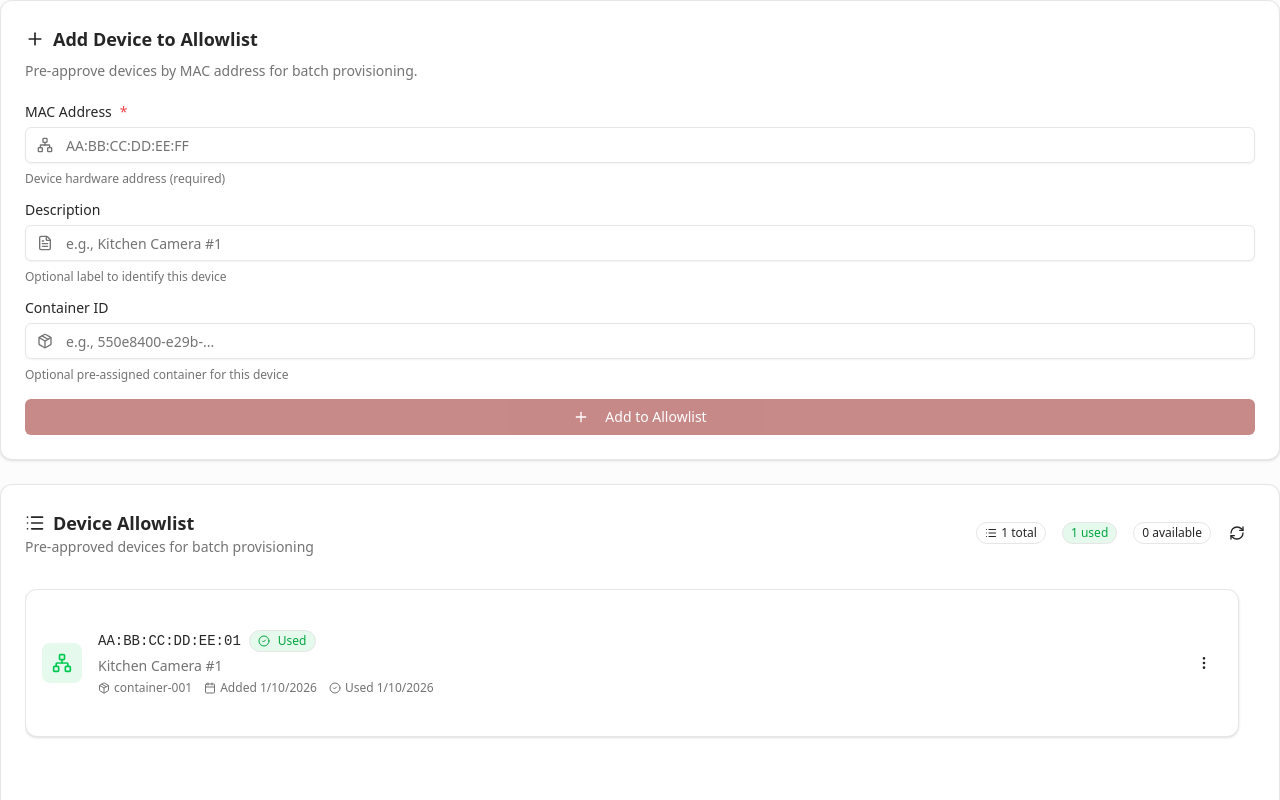
Scenario: AllowlistSection › Delete Entry › opens delete confirmation when delete clicked
The width and height of the screenshot is (1280, 800).
expect the element with test id "allowlist-entries" is shown: met, box 25,589 -> 1239,737
Open dropdown and click delete
Click the button with test id "entry-actions-button".
click(1204, 663)  # box 1186,645 -> 1222,681
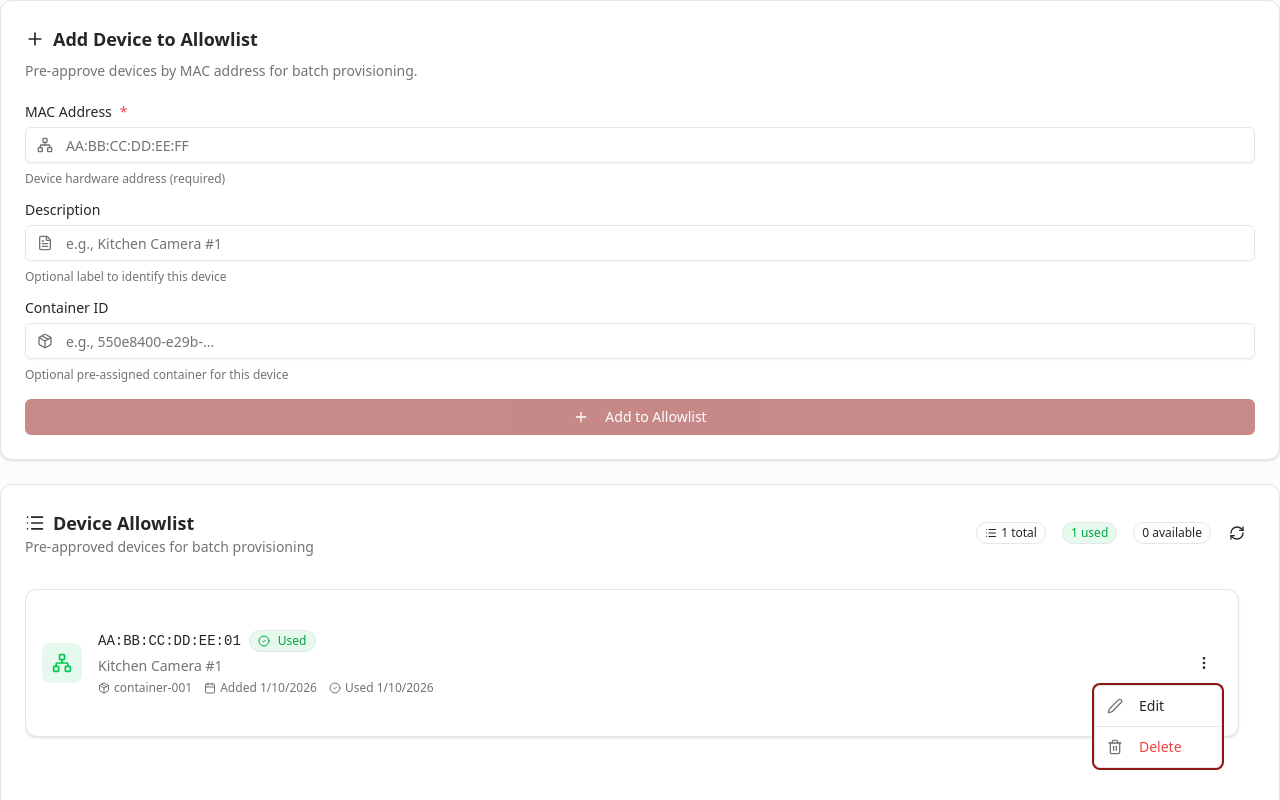
Click the menu item with test id "delete-entry-action".
click(1144, 746)  # box 1107,737 -> 1182,756
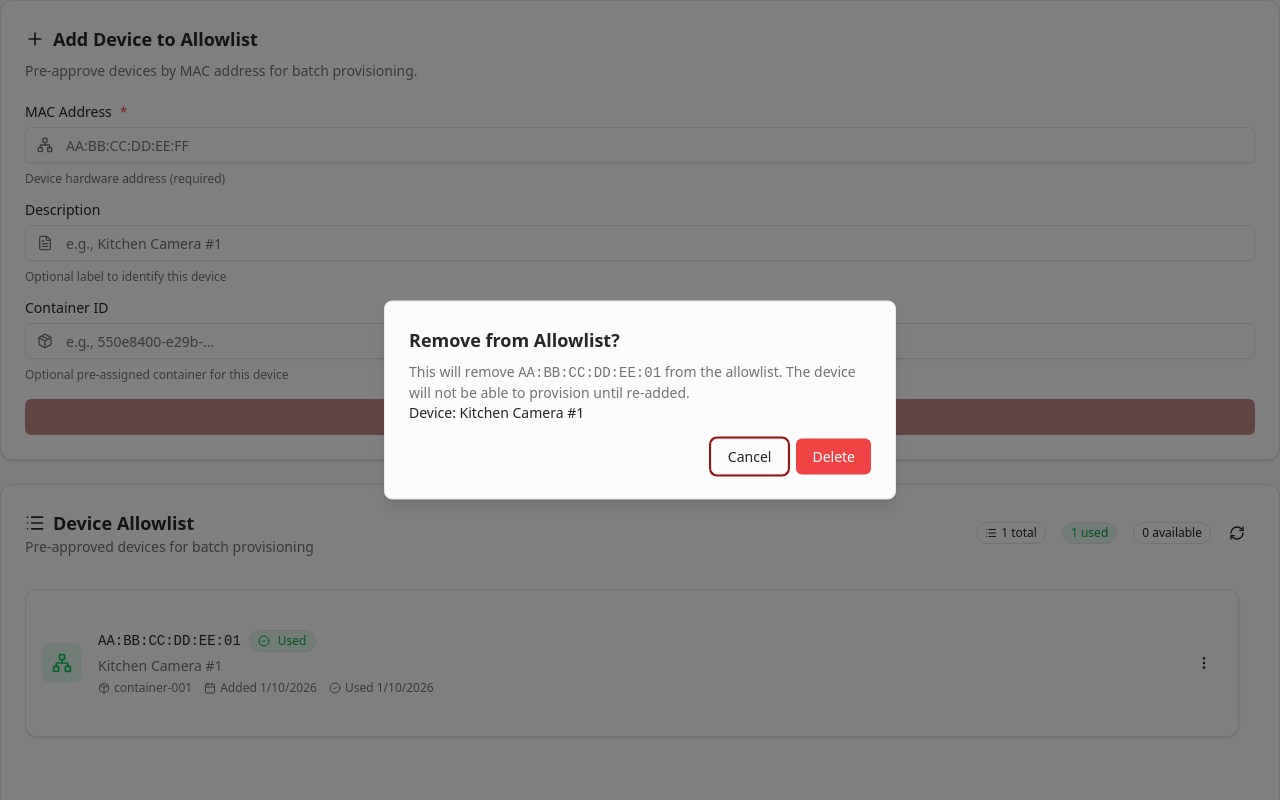
expect the heading "Remove from Allowlist?" is shown: met, box 409,328 -> 620,352
